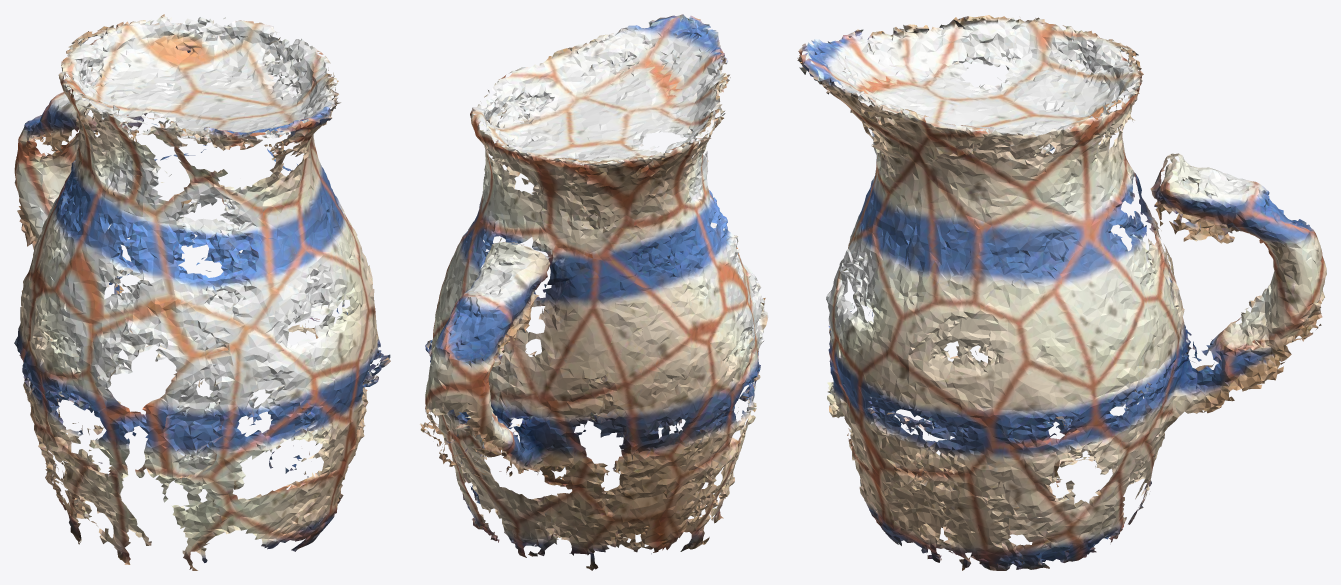
The model's file is jug.glb.
The picture shows the model from 3 angles, left to right: view 1: azimuth 30°, elevation 25°; view 2: azimuth 150°, elevation 25°; view 3: azimuth 270°, elevation 25°; orthographic projection. The views are drawn at different scales.
Visible parts, largest first — view 1: jug; view 2: jug; view 3: jug.
Part boxes in pixels (x1,y1,x2,y2): jug: [14, 14, 390, 570]; jug: [420, 14, 768, 570]; jug: [797, 15, 1326, 570].
Bounding box in the file's own units: 0.1405 × 0.199 × 0.2052.
1 material, 1 textured.
